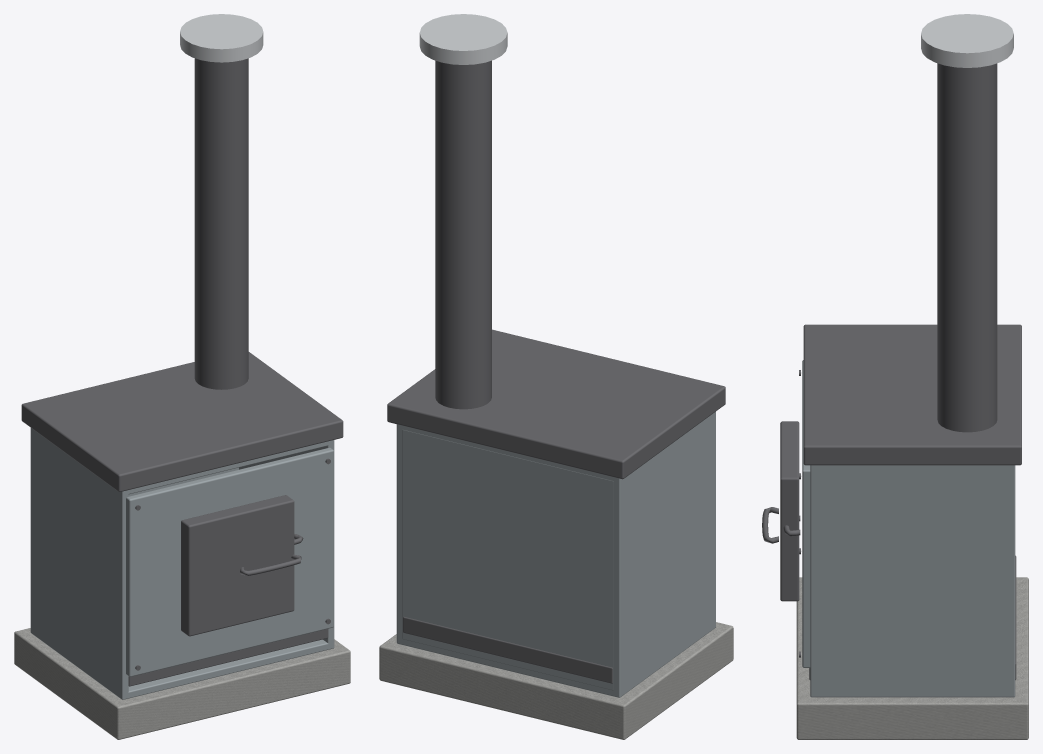
The model's file is prison-complex-builder-incinerator-8153cd6f__25693.glb.
3 renders of one model, left to right at view 1: azimuth 30°, elevation 25°; view 2: azimuth 150°, elevation 25°; view 3: azimuth 270°, elevation 25°, orthographic. The views are drawn at different scales.
Parts seen in each view (by area): view 1: incinerator, door-1/steelPainted; view 2: incinerator; view 3: incinerator, door-1/steelPainted.
Boxes of the visible parts, left/top/right/bottom form: incinerator: left=14, top=14, right=350, bottom=739; door-1/steelPainted: left=126, top=447, right=333, bottom=676; incinerator: left=379, top=14, right=733, bottom=739; incinerator: left=762, top=14, right=1028, bottom=739; door-1/steelPainted: left=802, top=360, right=810, bottom=667.
Size of the model in its own units: 1.1 by 2.74 by 0.9765.
Materials: 5 (1 with a texture image).
